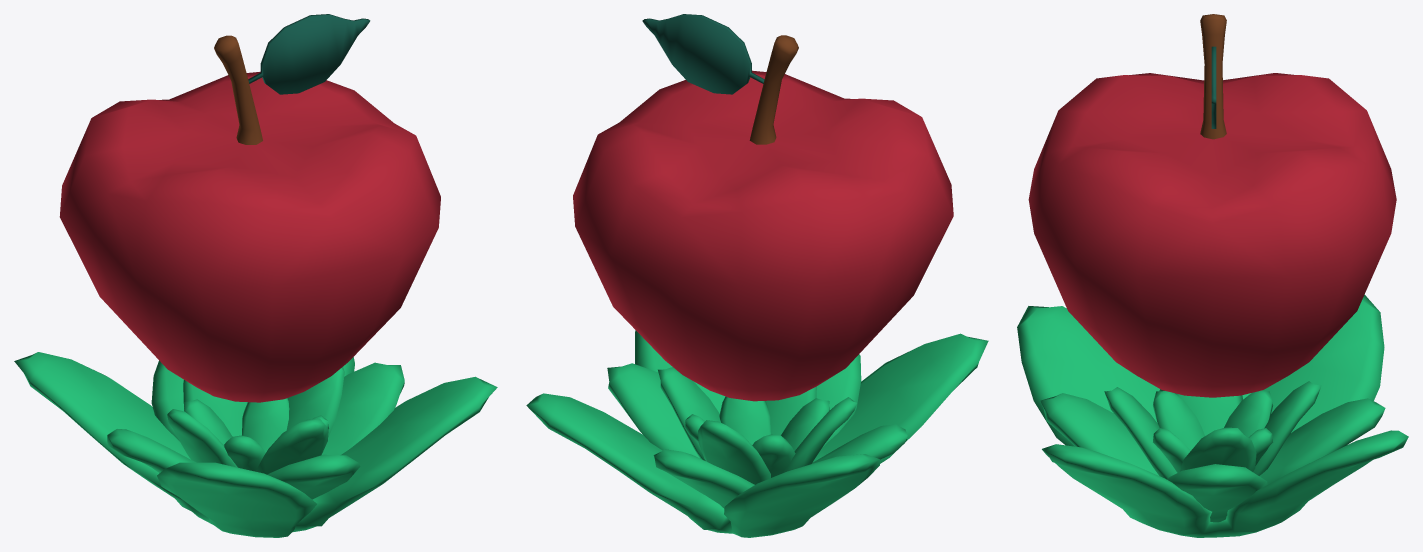
File: Tree-Apple-no3.gltf
3 views of the same model, side by side, from view 1: azimuth 30°, elevation 25°; view 2: azimuth 150°, elevation 25°; view 3: azimuth 270°, elevation 25° (orthographic).
Visible parts, largest first — view 1: Tree-Cactus-no2; view 2: Tree-Cactus-no2; view 3: Tree-Cactus-no2.
Boxes of the visible parts, x1=… form: Tree-Cactus-no2: x1=14, y1=14, x2=497, y2=537; Tree-Cactus-no2: x1=526, y1=14, x2=988, y2=537; Tree-Cactus-no2: x1=1017, y1=14, x2=1408, y2=537.
Bounding box in the file's own units: 0.8819 × 1.21 × 0.8683.
1 material, 1 textured.
